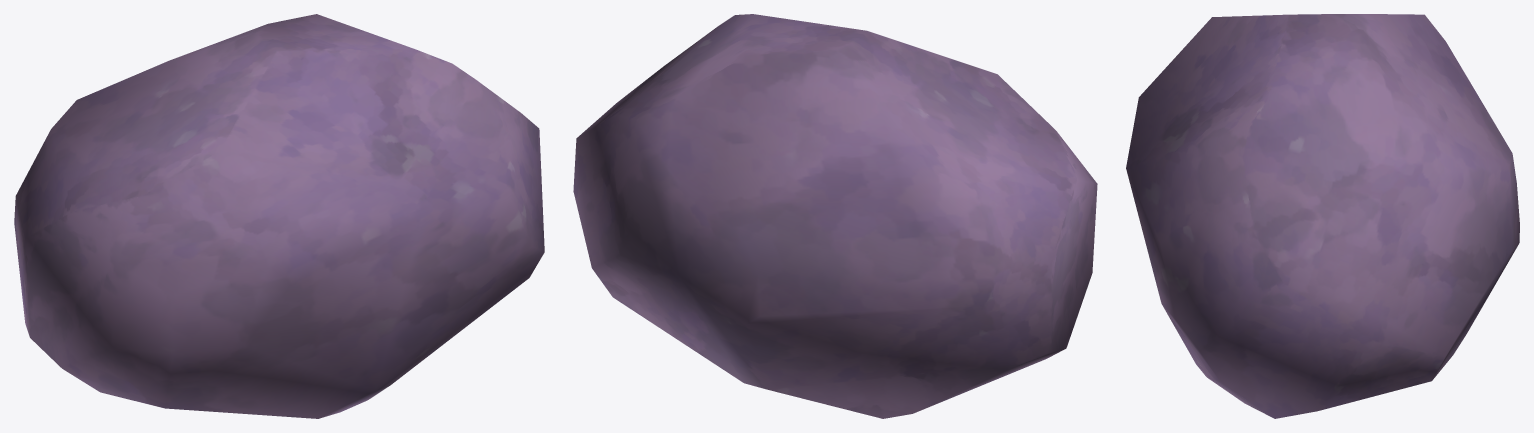
The model's file is Rock03.fbx.
3 views of the same model, side by side, from view 1: azimuth 30°, elevation 25°; view 2: azimuth 150°, elevation 25°; view 3: azimuth 270°, elevation 25° (orthographic). The views are drawn at different scales.
Parts seen in each view (by area): view 1: Rock03_LP; view 2: Rock03_LP; view 3: Rock03_LP.
Boxes of the visible parts, x1=… form: Rock03_LP: x1=14, y1=14, x2=544, y2=418; Rock03_LP: x1=573, y1=14, x2=1097, y2=418; Rock03_LP: x1=1126, y1=14, x2=1519, y2=418.
Bounding box in the file's own units: 2720 × 1900 × 1876.
